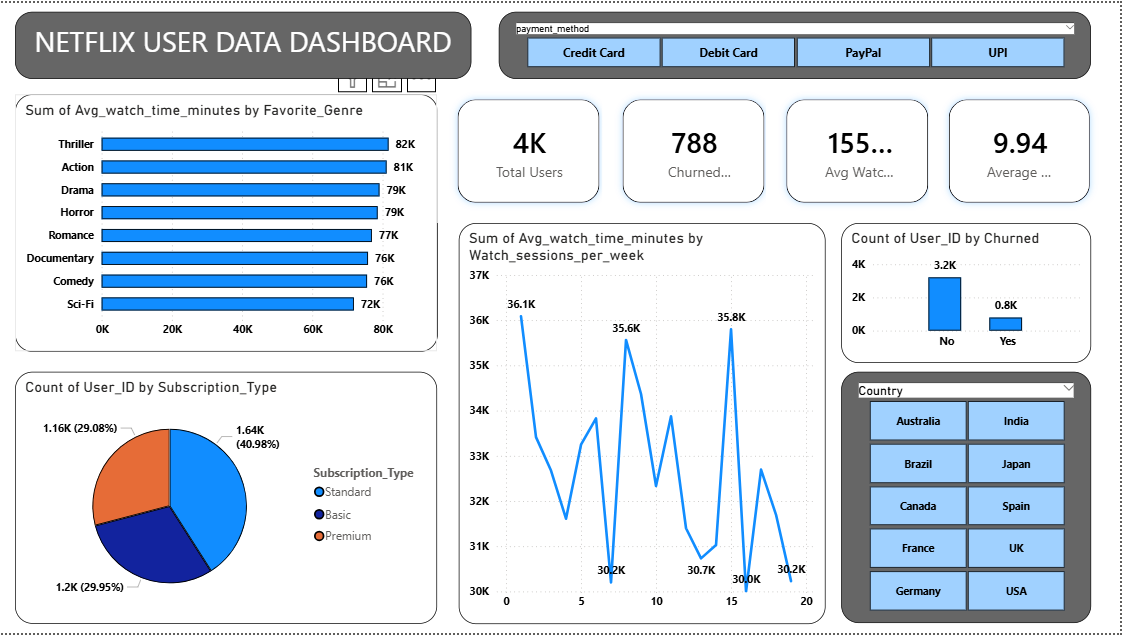

The page's visual inventory and layout, read from the dashboard file:
{"tool":"powerbi","page":{"name":"Page 1","canvas":[1280,720],"ordinal":0},"visuals":[{"type":"barChart","fields":{"Y":["Sum(netflix_users.Avg_watch_time_minutes)"],"Category":["netflix_users.Favorite_Genre"]},"box":[17.1,104.3,482.9,294.3],"z":1000},{"type":"pieChart","fields":{"Category":["netflix_users.Subscription_Type"],"Y":["CountNonNull(netflix_users.User_ID)"]},"box":[17.6,421.6,482.4,287.8],"z":2000},{"type":"lineChart","fields":{"Category":["netflix_users.Watch_sessions_per_week"],"Y":["Sum(netflix_users.Avg_watch_time_minutes)"]},"box":[524.3,251.4,418.9,458.1],"z":3000},{"type":"textbox","box":[17.6,9.5,521.6,77],"z":3002},{"type":"cardVisual","fields":{"Data":["netflix_users.Total Users"]},"box":[500,87.1,208.6,164.3],"z":3003},{"type":"cardVisual","fields":{"Data":["netflix_users.Churned Users"]},"box":[688.6,87.1,208.6,164.3],"z":3004},{"type":"cardVisual","fields":{"Data":["netflix_users.Avg Watch Time"]},"box":[875.7,87.1,208.6,164.3],"z":3005},{"type":"cardVisual","fields":{"Data":["Avg(netflix_users.Watch_sessions_per_week)"]},"box":[1061.4,87.1,207.1,164.3],"z":3006},{"type":"columnChart","fields":{"Category":["netflix_users.Churned"],"Y":["CountNonNull(netflix_users.User_ID)"]},"box":[961.4,251.4,285.7,160],"z":3007},{"type":"slicer","fields":{"Values":["netflix_users.Country"]},"box":[961.4,421.4,285.7,287.1],"z":3008},{"type":"slicer","fields":{"Values":["netflix_users.payment_method"]},"box":[570,10,677.1,77.1],"z":3009}]}

Visuals, with their boxes in screenshot pixels (x1, y1, x2, y2), scaled from the page's 1280x720 canvas onto the 1123x635 screenshot:
barChart - Sum(netflix_users.Avg_watch_time_minutes) x netflix_users.Favorite_Genre: <region>15, 92, 439, 352</region>
pieChart - netflix_users.Subscription_Type x CountNonNull(netflix_users.User_ID): <region>15, 372, 439, 626</region>
lineChart - netflix_users.Watch_sessions_per_week x Sum(netflix_users.Avg_watch_time_minutes): <region>460, 222, 828, 626</region>
textbox: <region>15, 8, 473, 76</region>
cardVisual - netflix_users.Total Users: <region>439, 77, 622, 222</region>
cardVisual - netflix_users.Churned Users: <region>604, 77, 787, 222</region>
cardVisual - netflix_users.Avg Watch Time: <region>768, 77, 951, 222</region>
cardVisual - Avg(netflix_users.Watch_sessions_per_week): <region>931, 77, 1113, 222</region>
columnChart - netflix_users.Churned x CountNonNull(netflix_users.User_ID): <region>843, 222, 1094, 363</region>
slicer - netflix_users.Country: <region>843, 372, 1094, 625</region>
slicer - netflix_users.payment_method: <region>500, 9, 1094, 77</region>
